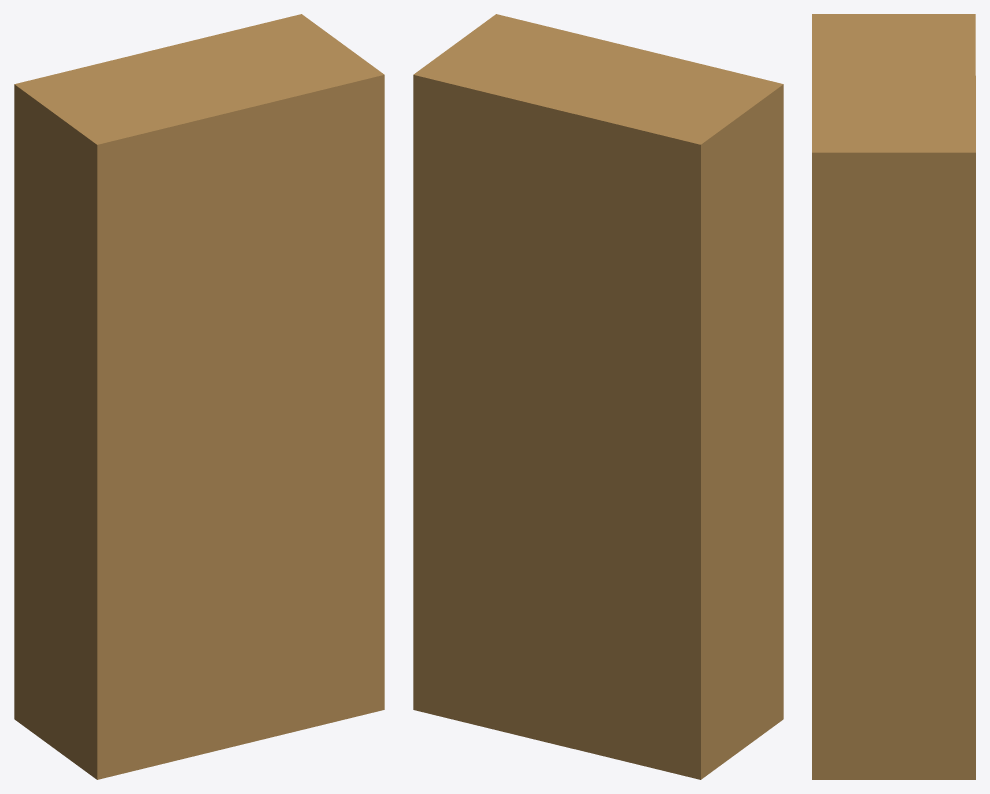
The picture shows the model from 3 angles, left to right: view 1: azimuth 30°, elevation 25°; view 2: azimuth 150°, elevation 25°; view 3: azimuth 270°, elevation 25°; orthographic projection.
Parts seen in each view (by area): view 1: RUN-087-S01-STUD-01-p4; view 2: RUN-087-S01-STUD-01-p4; view 3: RUN-087-S01-STUD-01-p4.
Boxes of the visible parts, <box> form: RUN-087-S01-STUD-01-p4: <box>14,14,384,779</box>; RUN-087-S01-STUD-01-p4: <box>413,14,783,779</box>; RUN-087-S01-STUD-01-p4: <box>812,14,975,779</box>.
Size of the model in its own units: 0.09 by 0.19 by 0.045.
